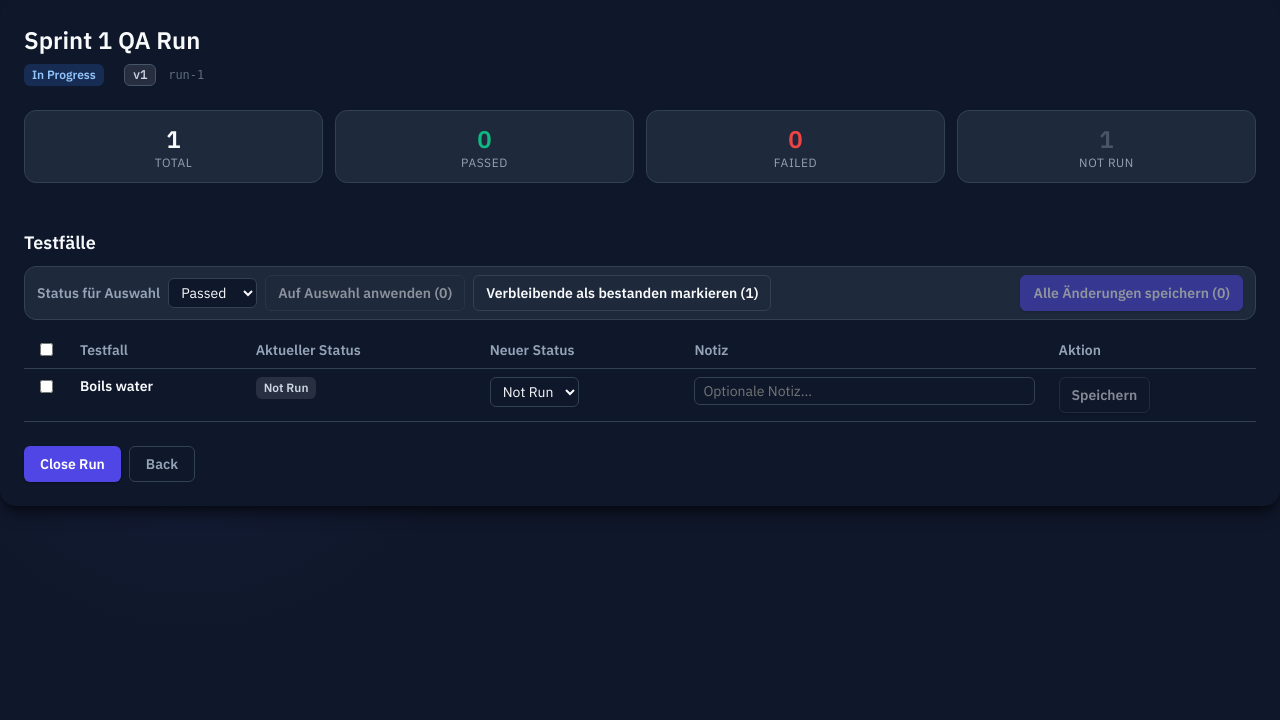
TestRunDetailEditor close-terminality (UI-56) › warns that closing is irreversible in the close-confirmation prompt
Click the button with test id "testrun-close-btn".
click(72, 464)  # box [24,446,121,482]
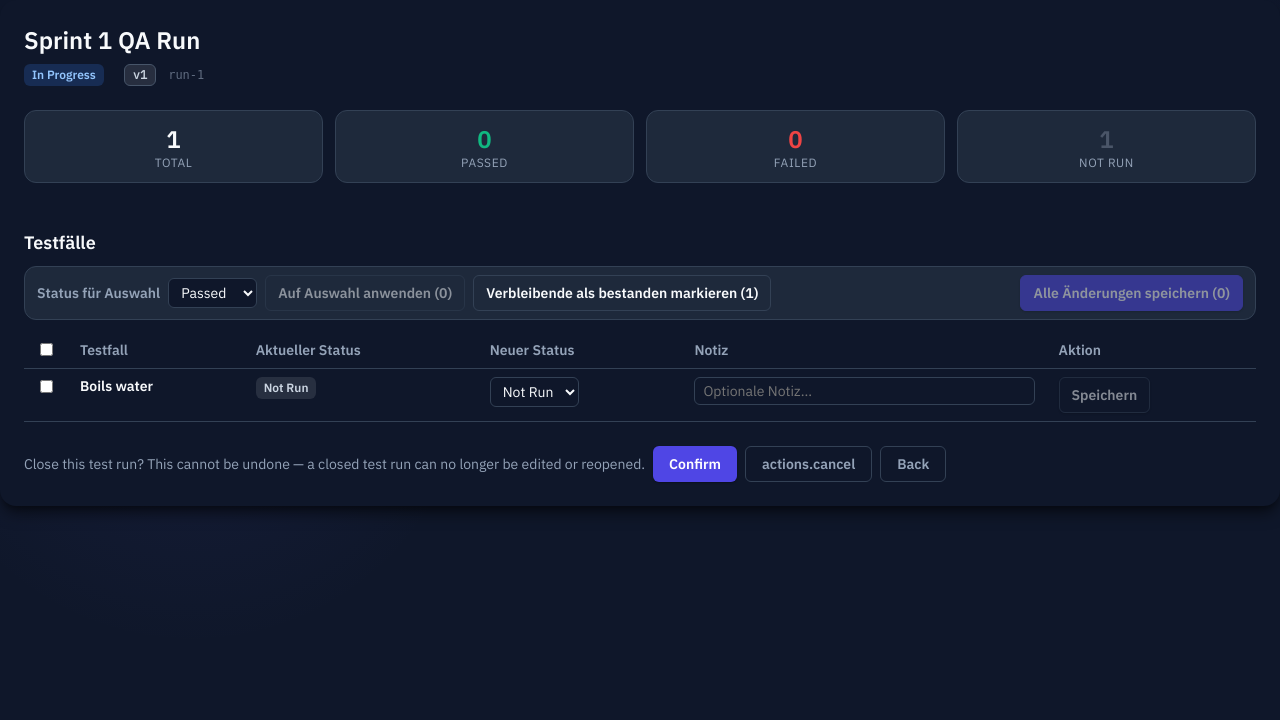
Expected: the text "cannot be undone" is shown, [24,455,645,473]
